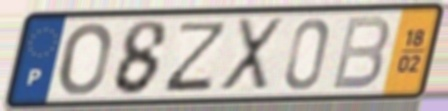0: (282, 16, 331, 92)
8: (113, 18, 170, 97)
B: (328, 14, 392, 93)
O: (57, 20, 113, 98)
X: (216, 15, 287, 95)
Z: (159, 19, 233, 95)
